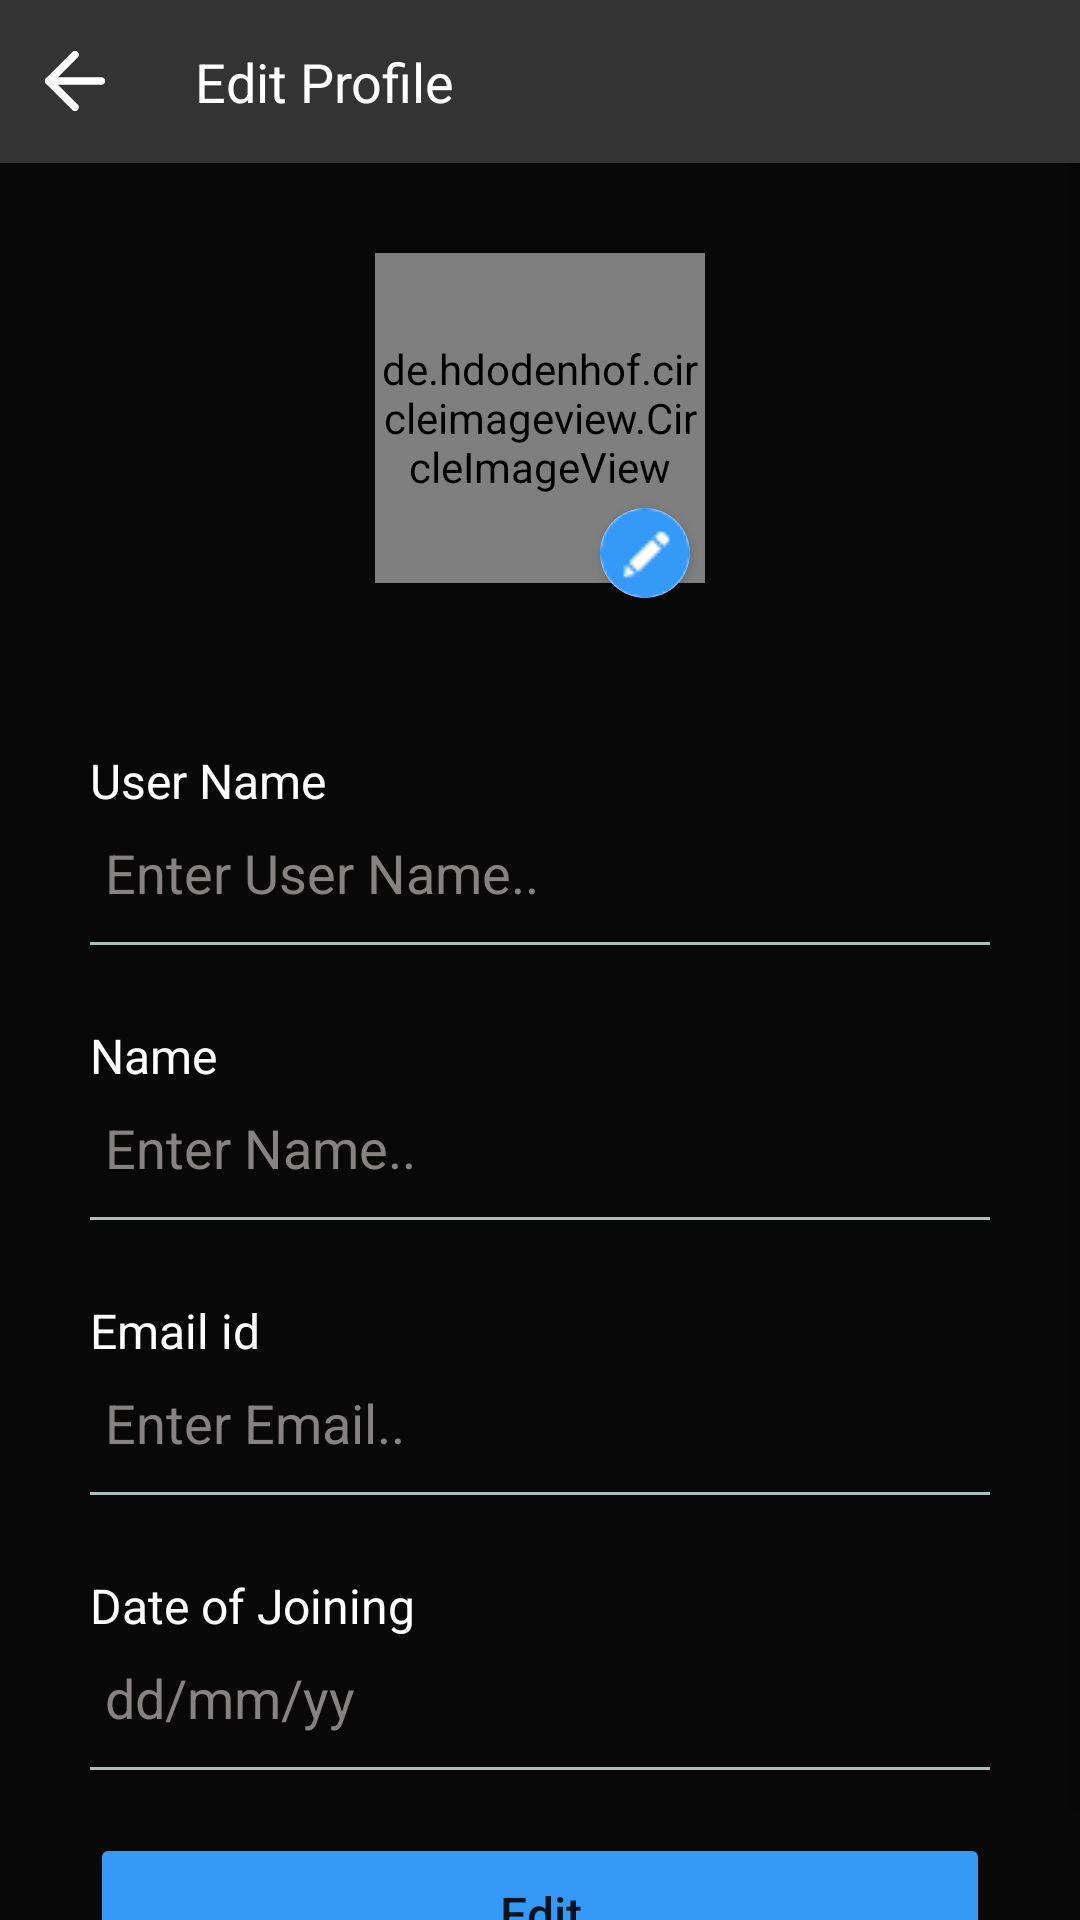

Icon click points for this 1080px×1920px phone screenshot, format (x,y):
back: (75,81)
edit: (645,553)
